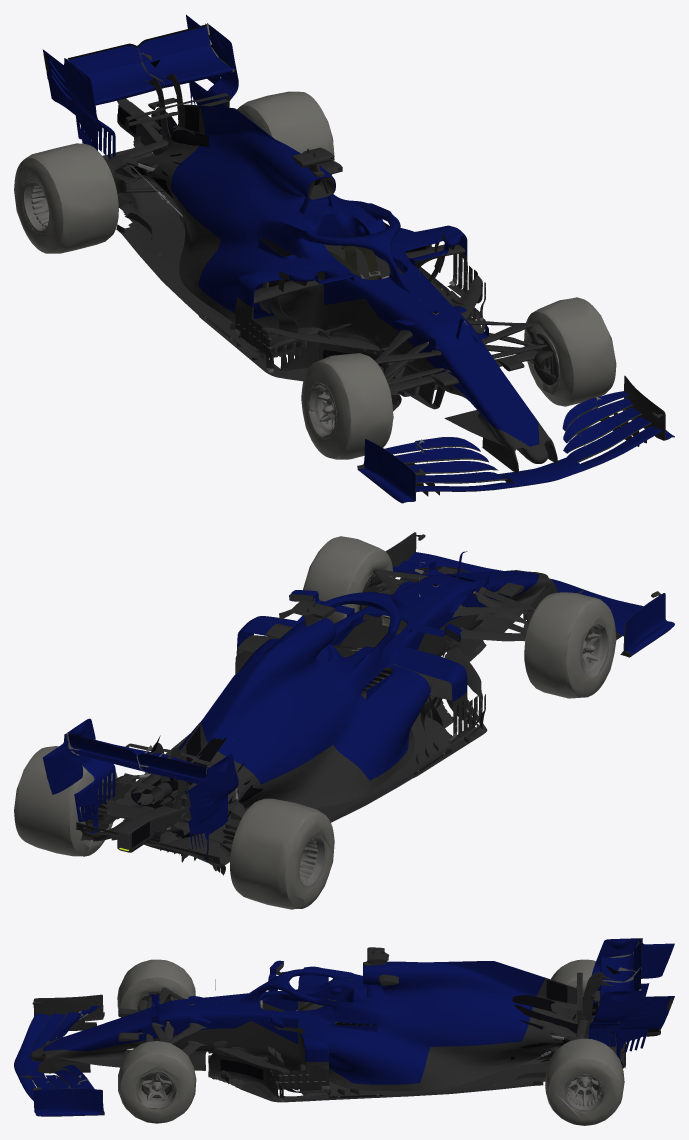
The model's file is f1-21-mercedes.glb.
The picture shows the model from 3 angles, top to bottom: view 1: azimuth 30°, elevation 25°; view 2: azimuth 150°, elevation 25°; view 3: azimuth 270°, elevation 25°; orthographic projection. The views are drawn at different scales.
Visible parts, largest first — view 1: BODY, WHEEL_RR, WHEEL_RF, WHEEL_LF, WHEEL_LR; view 2: BODY, WHEEL_RR, WHEEL_RF, WHEEL_LR, WHEEL_LF; view 3: BODY, WHEEL_LR, WHEEL_LF, WHEEL_RF, WHEEL_RR.
Boxes of the visible parts, <box> form: BODY: <box>42,14,674,503</box>; WHEEL_RR: <box>14,143,118,253</box>; WHEEL_RF: <box>301,353,393,459</box>; WHEEL_LF: <box>524,297,616,406</box>; WHEEL_LR: <box>237,91,334,175</box>; BODY: <box>42,532,674,875</box>; WHEEL_RR: <box>230,798,334,909</box>; WHEEL_RF: <box>524,592,616,698</box>; WHEEL_LR: <box>14,746,117,856</box>; WHEEL_LF: <box>303,536,392,623</box>; BODY: <box>14,938,674,1116</box>; WHEEL_LR: <box>545,1038,624,1125</box>; WHEEL_LF: <box>118,1041,196,1123</box>; WHEEL_RF: <box>117,959,195,1009</box>; WHEEL_RR: <box>551,959,595,995</box>.
Bounding box in the file's own units: 2.07 × 1.21 × 5.63.
